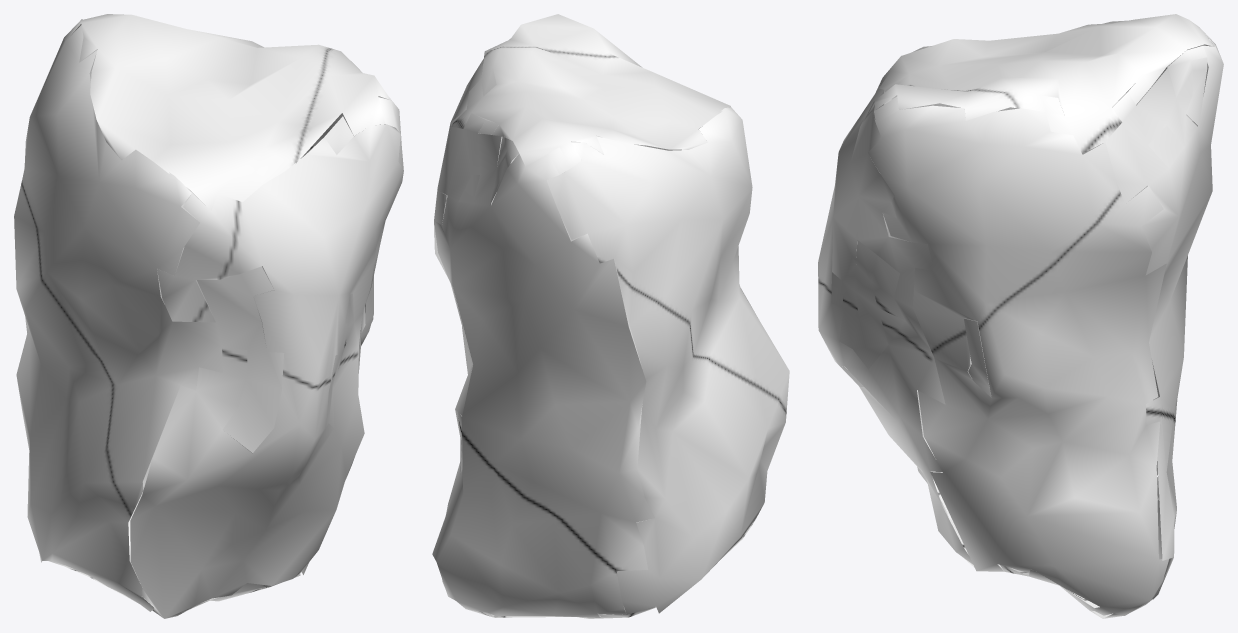
The model's file is asteroide9.obj.
The picture shows the model from 3 angles, left to right: view 1: azimuth 30°, elevation 25°; view 2: azimuth 150°, elevation 25°; view 3: azimuth 270°, elevation 25°; orthographic projection. The views are drawn at different scales.
Parts seen in each view (by area): view 1: Asteroid_no_9_Material_#3_0; view 2: Asteroid_no_9_Material_#3_0; view 3: Asteroid_no_9_Material_#3_0.
Boxes of the visible parts, box(x1,y1,x2,y2) form: Asteroid_no_9_Material_#3_0: box(14, 14, 403, 618); Asteroid_no_9_Material_#3_0: box(432, 14, 789, 618); Asteroid_no_9_Material_#3_0: box(818, 14, 1223, 618).
Size of the model in its own units: 0.4588 by 0.7837 by 0.5285.
